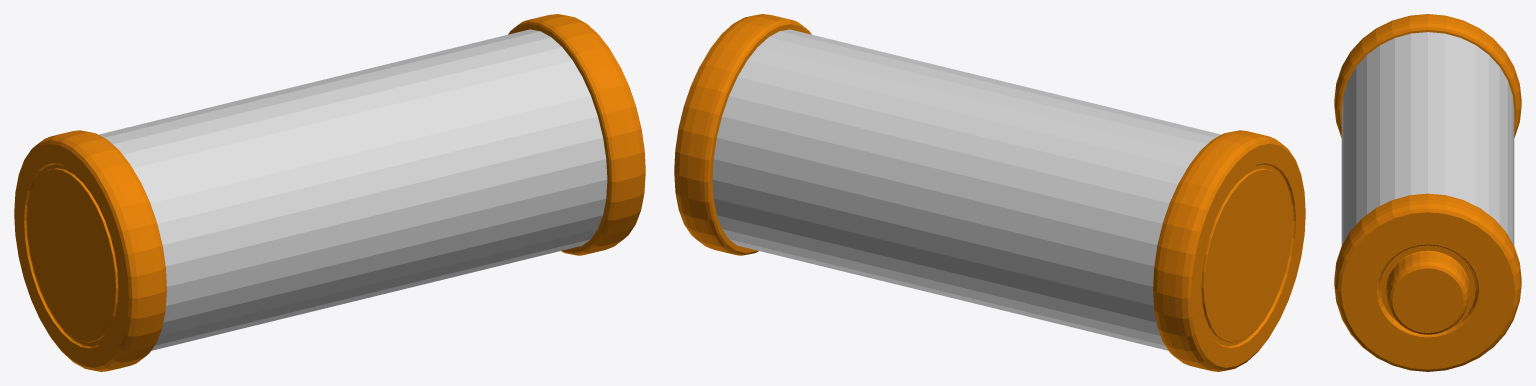
The model's file is batterys_m.gltf.
3 renders of one model, left to right at view 1: azimuth 30°, elevation 25°; view 2: azimuth 150°, elevation 25°; view 3: azimuth 270°, elevation 25°, orthographic. The views are drawn at different scales.
Visible parts, largest first — view 1: Cylinder.001; view 2: Cylinder.001; view 3: Cylinder.001.
Boxes of the visible parts, <box> form: Cylinder.001: <box>14,14,645,371</box>; Cylinder.001: <box>674,14,1305,371</box>; Cylinder.001: <box>1334,14,1521,371</box>.
Size of the model in its own units: 6.07 by 2.35 by 2.35.
